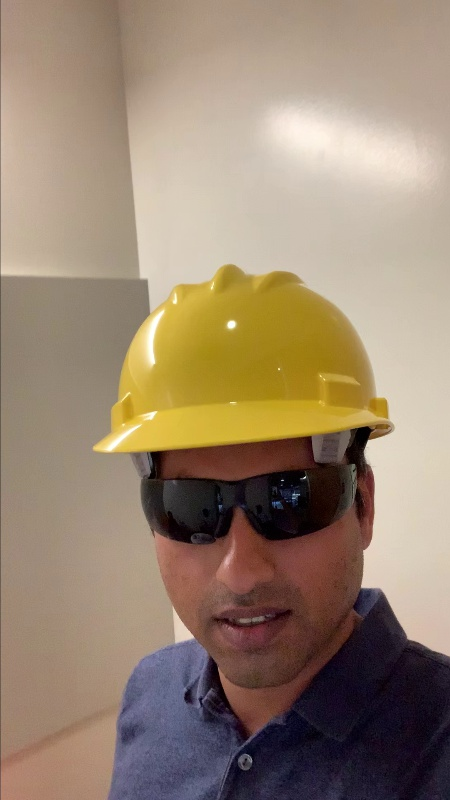glasses: (136, 469, 363, 541)
helmet: (113, 264, 381, 414)
